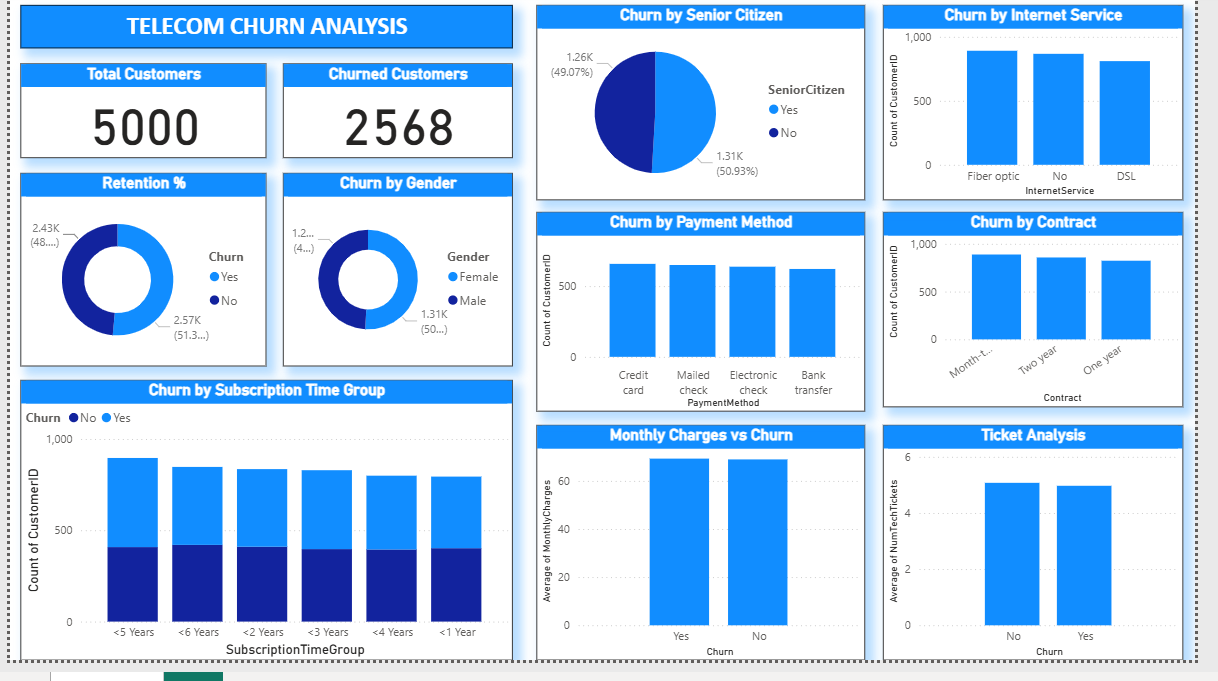

What the dashboard file says about the page in this screenshot:
{"tool":"powerbi","page":{"name":"Page 1","canvas":[1280,720],"ordinal":0},"visuals":[{"type":"card","title":"Total Customers","fields":{"Values":["CountNonNull(telecom_churn_enhanced_dataset.CustomerID)"]},"box":[11.3,76.1,265.6,102],"z":0},{"type":"card","title":"Churned Customers","fields":{"Values":["CountNonNull(telecom_churn_enhanced_dataset.CustomerID)"]},"box":[294.7,76.1,247.7,102],"z":1000},{"type":"donutChart","title":"Retention %","fields":{"Category":["telecom_churn_enhanced_dataset.Churn"],"Y":["CountNonNull(telecom_churn_enhanced_dataset.CustomerID)"]},"box":[11.3,194.3,265.6,208.9],"z":2000},{"type":"donutChart","title":"Churn by Gender","fields":{"Category":["telecom_churn_enhanced_dataset.Gender"],"Y":["CountNonNull(telecom_churn_enhanced_dataset.CustomerID)"]},"box":[294.7,194.3,247.7,208.9],"z":3000},{"type":"clusteredColumnChart","title":"Churn by Contract","fields":{"Category":["telecom_churn_enhanced_dataset.Contract"],"Y":["CountNonNull(telecom_churn_enhanced_dataset.CustomerID)"]},"box":[942.4,236.4,323.8,210.5],"z":4000},{"type":"clusteredColumnChart","title":"Churn by Internet Service","fields":{"Category":["telecom_churn_enhanced_dataset.InternetService"],"Y":["CountNonNull(telecom_churn_enhanced_dataset.CustomerID)"]},"box":[942.4,13,323.8,210.5],"z":5000},{"type":"columnChart","title":"Churn by Subscription Time Group","fields":{"Category":["telecom_churn_enhanced_dataset.SubscriptionTimeGroup"],"Series":["telecom_churn_enhanced_dataset.Churn"],"Y":["CountNonNull(telecom_churn_enhanced_dataset.CustomerID)"]},"box":[11.3,417.8,531.1,302.8],"z":6000},{"type":"pieChart","title":"Churn by Senior Citizen","fields":{"Category":["telecom_churn_enhanced_dataset.SeniorCitizen"],"Y":["CountNonNull(telecom_churn_enhanced_dataset.CustomerID)"]},"box":[568.3,13,354.6,210.5],"z":7000},{"type":"clusteredColumnChart","title":"Monthly Charges vs Churn","fields":{"Category":["telecom_churn_enhanced_dataset.Churn"],"Y":["Avg(telecom_churn_enhanced_dataset.MonthlyCharges)"]},"box":[568.3,466.3,354.6,254.2],"z":8000},{"type":"clusteredColumnChart","title":"Ticket Analysis","fields":{"Category":["telecom_churn_enhanced_dataset.Churn"],"Y":["Avg(telecom_churn_enhanced_dataset.NumTechTickets)"]},"box":[942.4,466.3,323.8,254.2],"z":9000},{"type":"clusteredColumnChart","title":"Churn by Payment Method","fields":{"Category":["telecom_churn_enhanced_dataset.PaymentMethod"],"Y":["Count(telecom_churn_enhanced_dataset.CustomerID)"]},"box":[568.3,236.4,354.6,215.4],"z":10000},{"type":"textbox","box":[11.3,13,531.1,47],"z":10002}]}

Visuals, with their boxes in screenshot pixels (x1, y1, x2, y2), scaled from the page's 1280x720 canvas onto the 1218x681 screenshot:
"Total Customers" card: box=[11, 72, 263, 168]
"Churned Customers" card: box=[280, 72, 516, 168]
"Retention %" donutChart: box=[11, 184, 263, 381]
"Churn by Gender" donutChart: box=[280, 184, 516, 381]
"Churn by Contract" clusteredColumnChart: box=[897, 224, 1205, 423]
"Churn by Internet Service" clusteredColumnChart: box=[897, 12, 1205, 211]
"Churn by Subscription Time Group" columnChart: box=[11, 395, 516, 680]
"Churn by Senior Citizen" pieChart: box=[541, 12, 878, 211]
"Monthly Charges vs Churn" clusteredColumnChart: box=[541, 441, 878, 680]
"Ticket Analysis" clusteredColumnChart: box=[897, 441, 1205, 680]
"Churn by Payment Method" clusteredColumnChart: box=[541, 224, 878, 427]
textbox: box=[11, 12, 516, 57]
